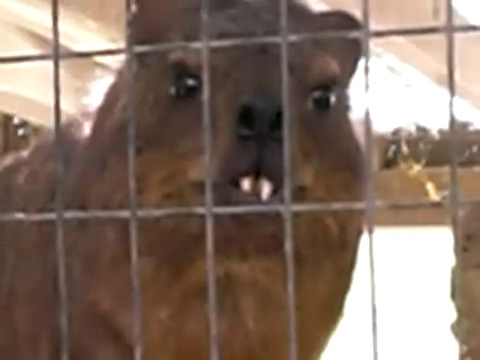Rock Hyrex: (1, 1, 369, 360)
